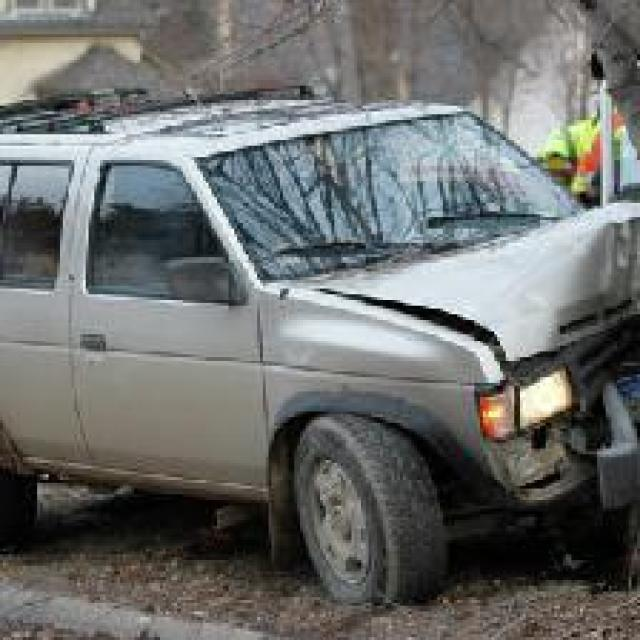damaged: (314, 206, 637, 514)
